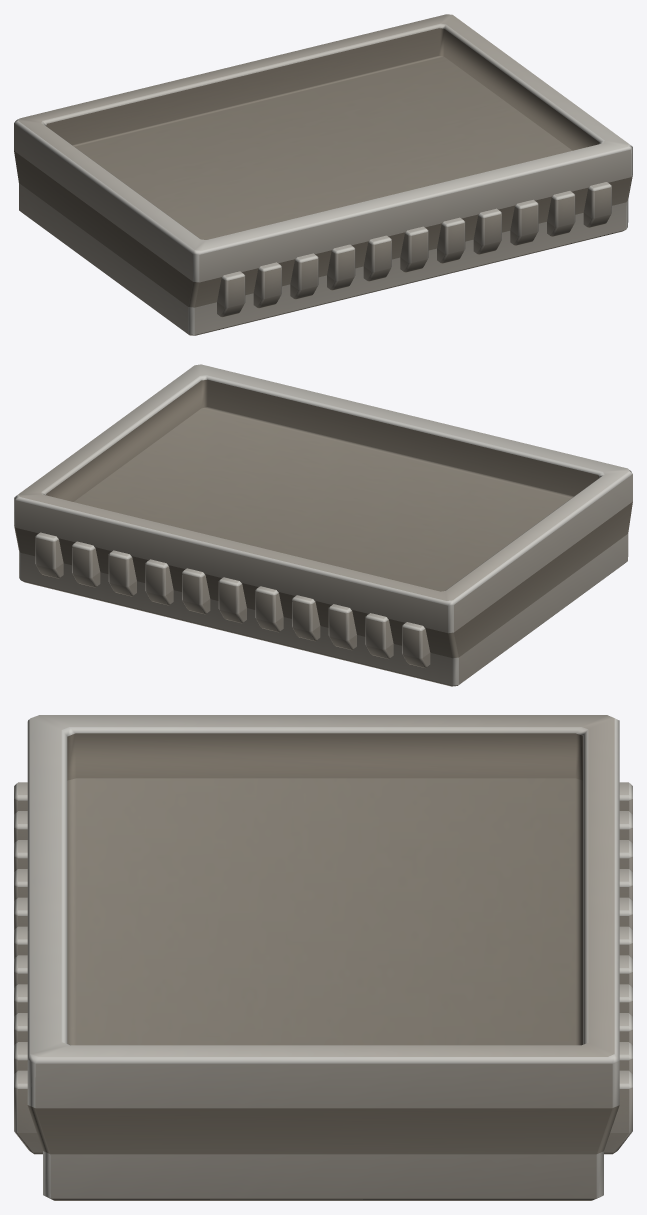
The model's file is appartment_type1_roof_type2_x6.fbx.
3 views of the same model, one above another, from view 1: azimuth 30°, elevation 25°; view 2: azimuth 150°, elevation 25°; view 3: azimuth 270°, elevation 25° (orthographic). The views are drawn at different scales.
Visible parts, largest first — view 1: appartment_type1_roof_type2_x6; view 2: appartment_type1_roof_type2_x6; view 3: appartment_type1_roof_type2_x6.
Part boxes in pixels (left/top/right/bottom): appartment_type1_roof_type2_x6: left=14, top=14, right=632, bottom=335; appartment_type1_roof_type2_x6: left=14, top=364, right=632, bottom=686; appartment_type1_roof_type2_x6: left=14, top=715, right=632, bottom=1200.
Bounding box in the file's own units: 1200 × 232 × 907.
